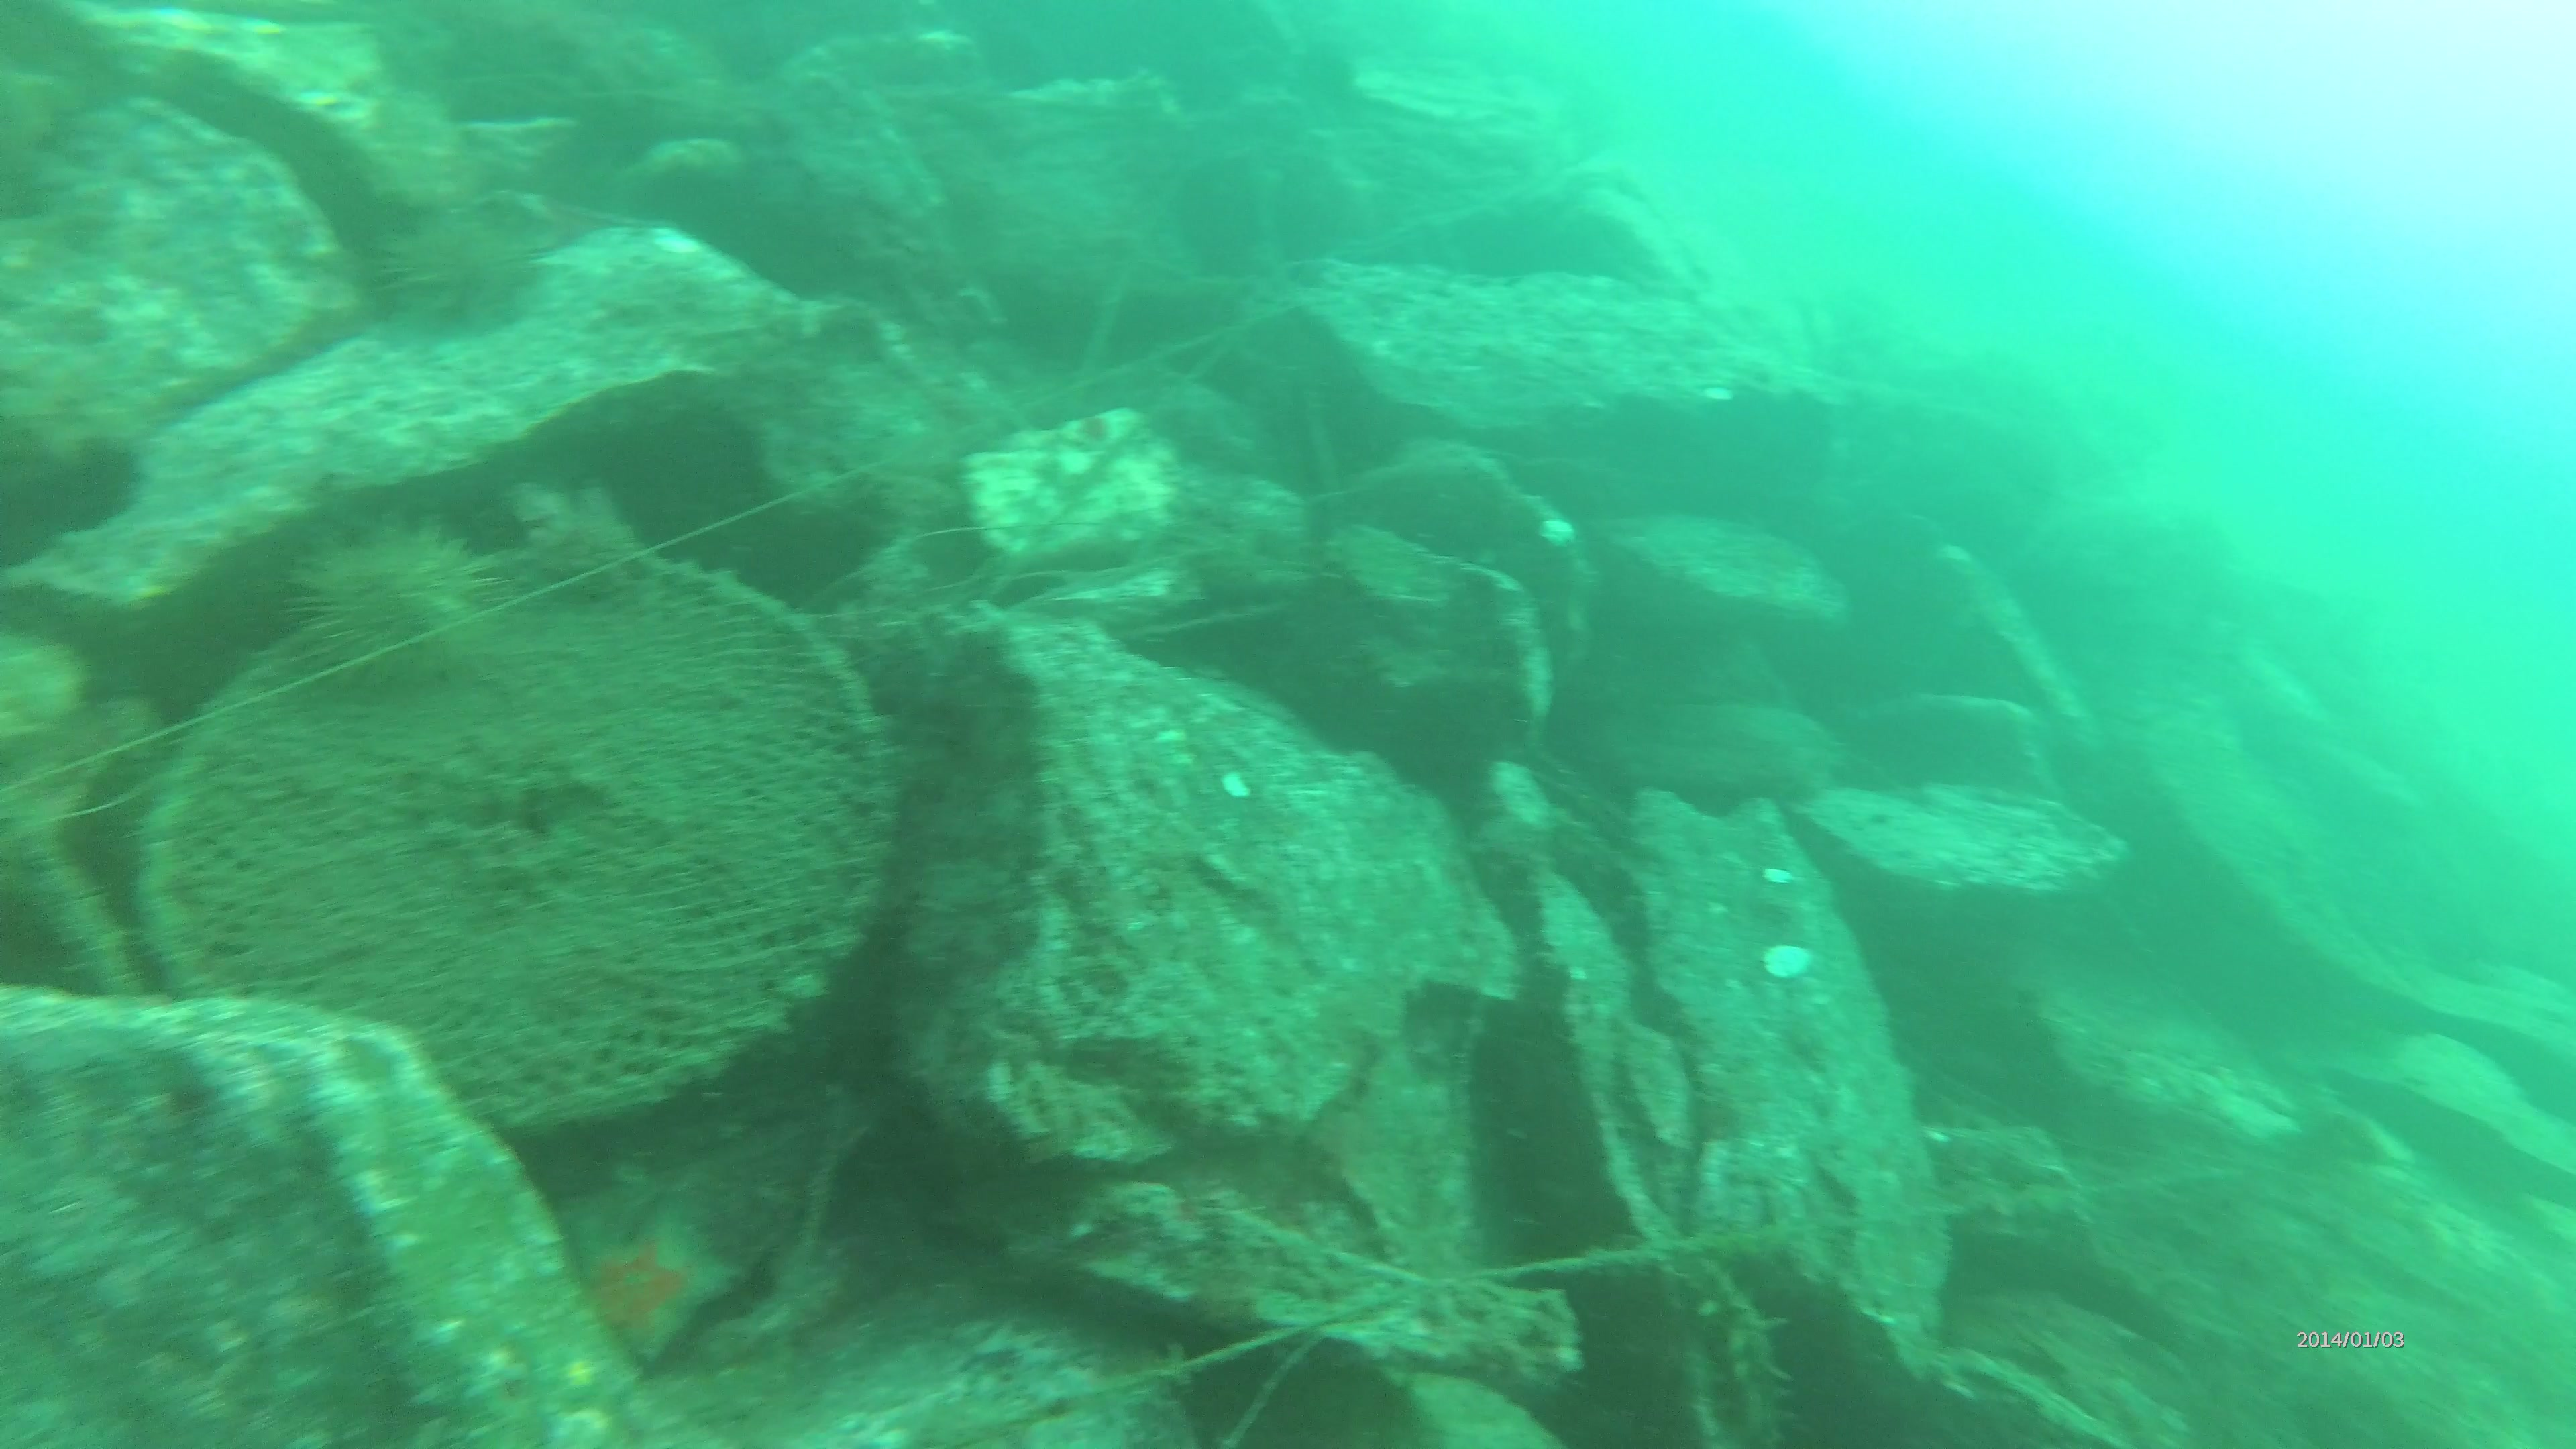echinus: (276, 511, 504, 679)
starfish: (559, 1185, 761, 1361)
